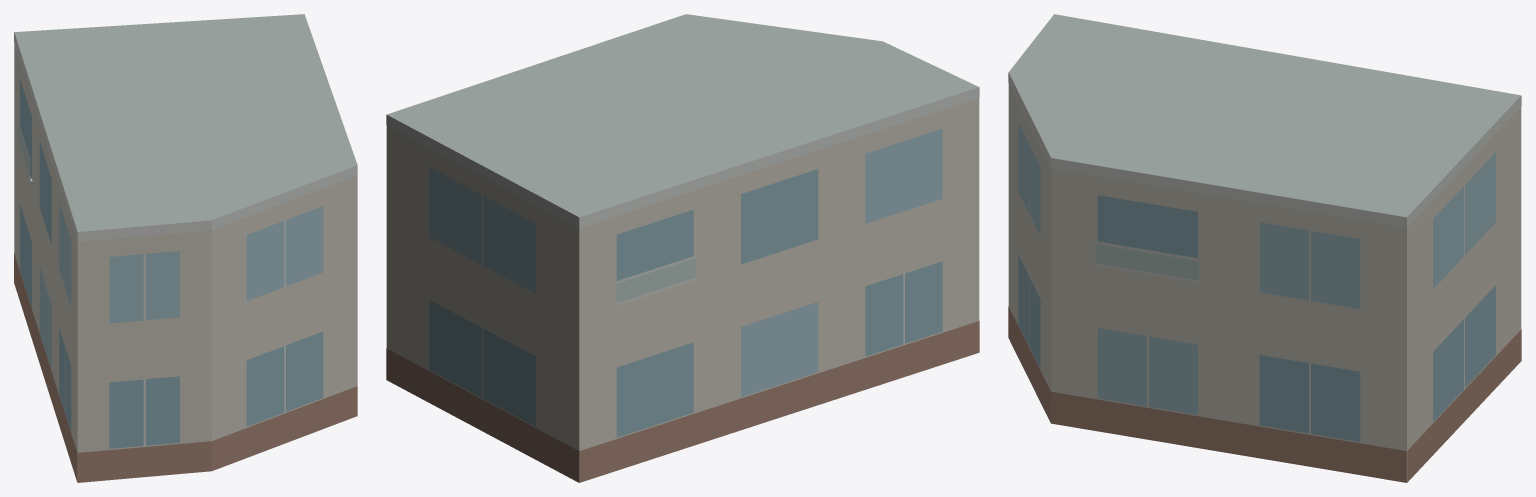
File: survey-upis-32687801.glb
3 views of the same model, side by side, from view 1: azimuth 30°, elevation 25°; view 2: azimuth 150°, elevation 25°; view 3: azimuth 270°, elevation 25° (orthographic). The views are drawn at different scales.
Parts seen in each view (by area): view 1: survey-upis-32687801.tmp; view 2: survey-upis-32687801.tmp; view 3: survey-upis-32687801.tmp.
Part boxes in pixels (x1=…): survey-upis-32687801.tmp: x1=14, y1=14, x2=357, y2=482; survey-upis-32687801.tmp: x1=386, y1=14, x2=979, y2=482; survey-upis-32687801.tmp: x1=1008, y1=14, x2=1521, y2=482.
Size of the model in its own units: 10.03 by 6.1 by 10.69.
